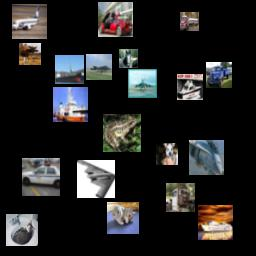airplane: (77, 160, 115, 198), (189, 140, 224, 175), (12, 4, 47, 39), (128, 69, 157, 98), (86, 54, 112, 80)
automobile: (22, 158, 60, 196), (98, 2, 133, 37)
cat: (107, 202, 139, 234), (6, 214, 38, 246)
deer: (19, 43, 41, 65)
dog: (156, 143, 178, 165)
frog: (103, 114, 141, 152)
ship: (198, 205, 233, 240), (53, 87, 88, 122), (55, 55, 84, 84), (177, 74, 203, 100)
truck: (166, 183, 195, 212), (206, 62, 232, 88), (180, 12, 199, 31)
